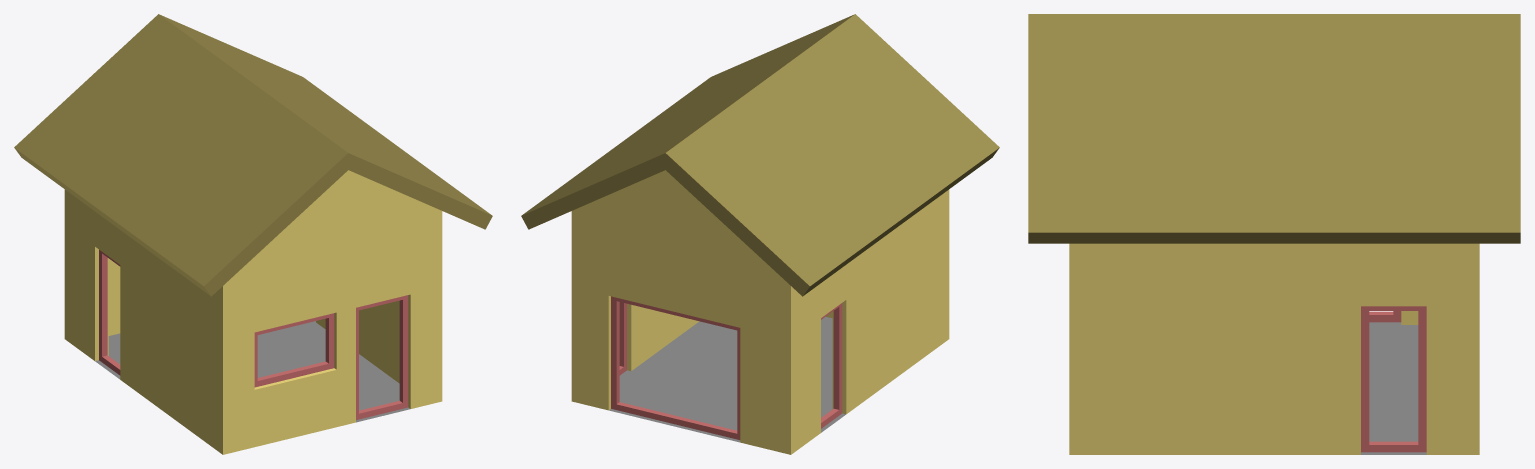
File: result.glb
3 renders of one model, left to right at view 1: azimuth 30°, elevation 25°; view 2: azimuth 150°, elevation 25°; view 3: azimuth 270°, elevation 25°, orthographic. The views are drawn at different scales.
Parts seen in each view (by area): view 1: a1991882-a6eb-445f-a28c-ebb45eaa7974__undefined, 12d77551-a067-4b2a-8a36-abc0e157ef1d__undefined (×2), 2997e21c-27e9-4ad2-84d2-b631c058b4a6__Plane_6, eb1e0ab2-78ba-49cd-9ab4-6535a80a4eb1__Box, d919c2ea-3f0c-44e2-84ce-a8a94268064a__Box_3, 2646fb25-808a-426c-b0b9-2dcc335b468a__Box_12; view 2: 12d77551-a067-4b2a-8a36-abc0e157ef1d__undefined (×2), a1991882-a6eb-445f-a28c-ebb45eaa7974__undefined, 2997e21c-27e9-4ad2-84d2-b631c058b4a6__Plane_6, 95685b17-1bcb-4e98-987b-6e552ffe0035__Box_9, 2646fb25-808a-426c-b0b9-2dcc335b468a__Box_12, f3835342-8688-42b8-8357-4060184b259b__Box_15; view 3: 12d77551-a067-4b2a-8a36-abc0e157ef1d__undefined, a1991882-a6eb-445f-a28c-ebb45eaa7974__undefined, 2997e21c-27e9-4ad2-84d2-b631c058b4a6__Plane_6, f3835342-8688-42b8-8357-4060184b259b__Box_15.
Boxes of the visible parts, left/top/right/bottom form: a1991882-a6eb-445f-a28c-ebb45eaa7974__undefined: left=64, top=170, right=442, bottom=454; 12d77551-a067-4b2a-8a36-abc0e157ef1d__undefined (×2): left=14, top=14, right=492, bottom=296; 2997e21c-27e9-4ad2-84d2-b631c058b4a6__Plane_6: left=95, top=321, right=410, bottom=422; eb1e0ab2-78ba-49cd-9ab4-6535a80a4eb1__Box: left=356, top=295, right=408, bottom=419; d919c2ea-3f0c-44e2-84ce-a8a94268064a__Box_3: left=254, top=313, right=334, bottom=387; 2646fb25-808a-426c-b0b9-2dcc335b468a__Box_12: left=99, top=250, right=120, bottom=375; 12d77551-a067-4b2a-8a36-abc0e157ef1d__undefined (×2): left=521, top=14, right=999, bottom=296; a1991882-a6eb-445f-a28c-ebb45eaa7974__undefined: left=571, top=170, right=949, bottom=454; 2997e21c-27e9-4ad2-84d2-b631c058b4a6__Plane_6: left=609, top=316, right=845, bottom=442; 95685b17-1bcb-4e98-987b-6e552ffe0035__Box_9: left=611, top=296, right=740, bottom=439; 2646fb25-808a-426c-b0b9-2dcc335b468a__Box_12: left=821, top=303, right=842, bottom=428; f3835342-8688-42b8-8357-4060184b259b__Box_15: left=619, top=302, right=626, bottom=375; 12d77551-a067-4b2a-8a36-abc0e157ef1d__undefined: left=1028, top=14, right=1520, bottom=243; a1991882-a6eb-445f-a28c-ebb45eaa7974__undefined: left=1069, top=243, right=1479, bottom=454; 2997e21c-27e9-4ad2-84d2-b631c058b4a6__Plane_6: left=1361, top=322, right=1426, bottom=454; f3835342-8688-42b8-8357-4060184b259b__Box_15: left=1361, top=306, right=1426, bottom=452.
Bounding box in the file's own units: 527 × 500 × 600.
